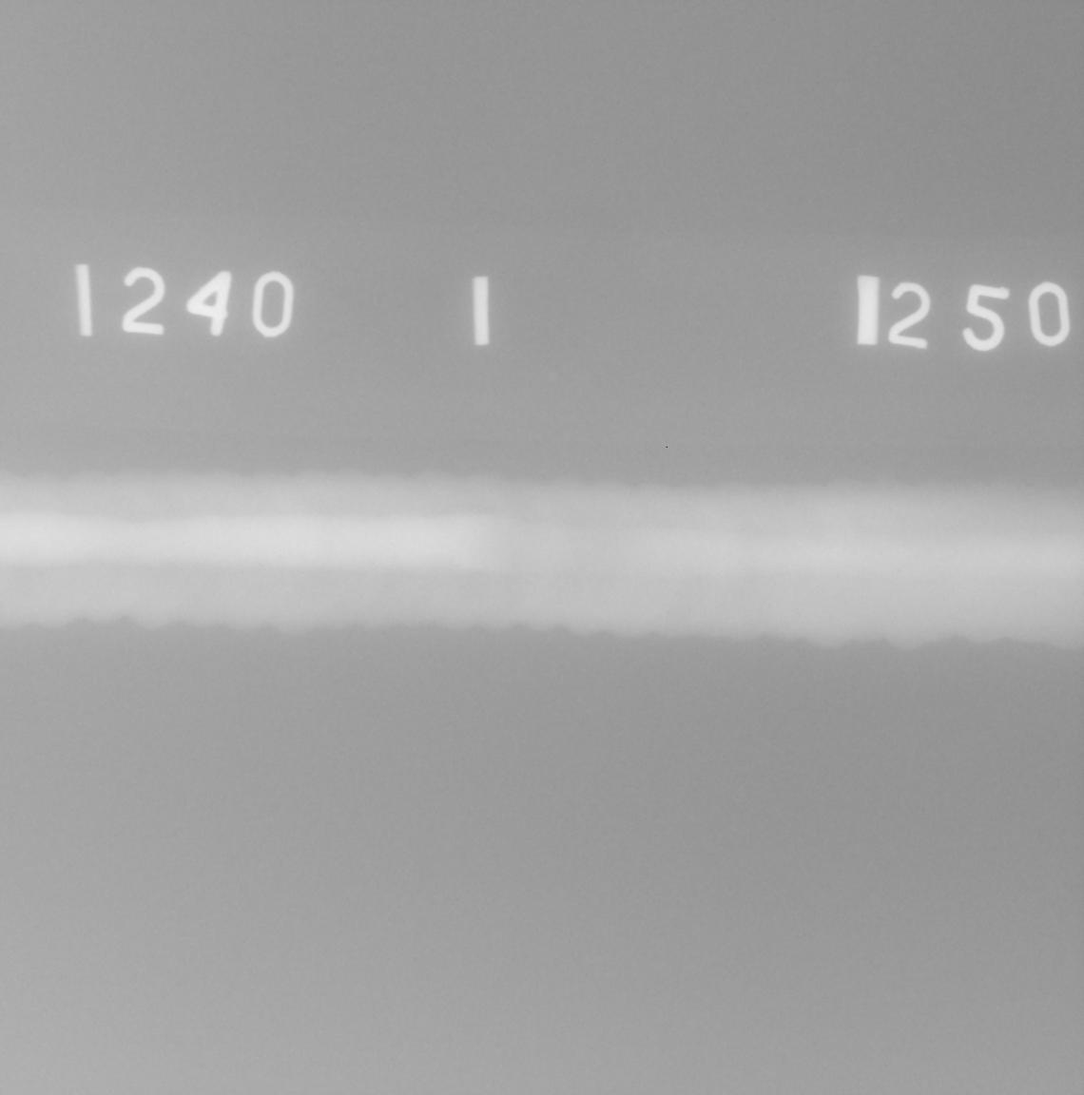Inclusion: (897, 569, 902, 573)
